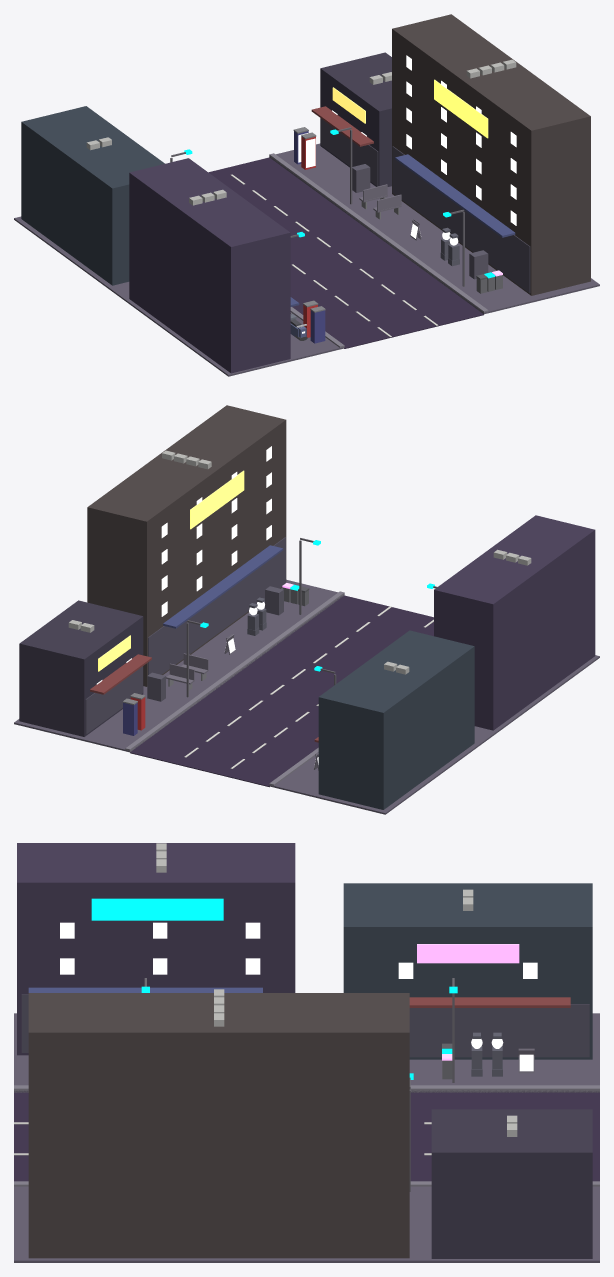
File: env3-2.glb
3 renders of one model, top to bottom at view 1: azimuth 30°, elevation 25°; view 2: azimuth 150°, elevation 25°; view 3: azimuth 270°, elevation 25°, orthographic. The views are drawn at different scales.
Visible parts, largest first — view 1: env3-2; view 2: env3-2; view 3: env3-2.
Part boxes in pixels (x1,y1,x2,y2): env3-2: [14, 14, 599, 376]; env3-2: [14, 405, 599, 814]; env3-2: [14, 843, 599, 1262].
Size of the model in its own units: 20 by 8.93 by 20.
